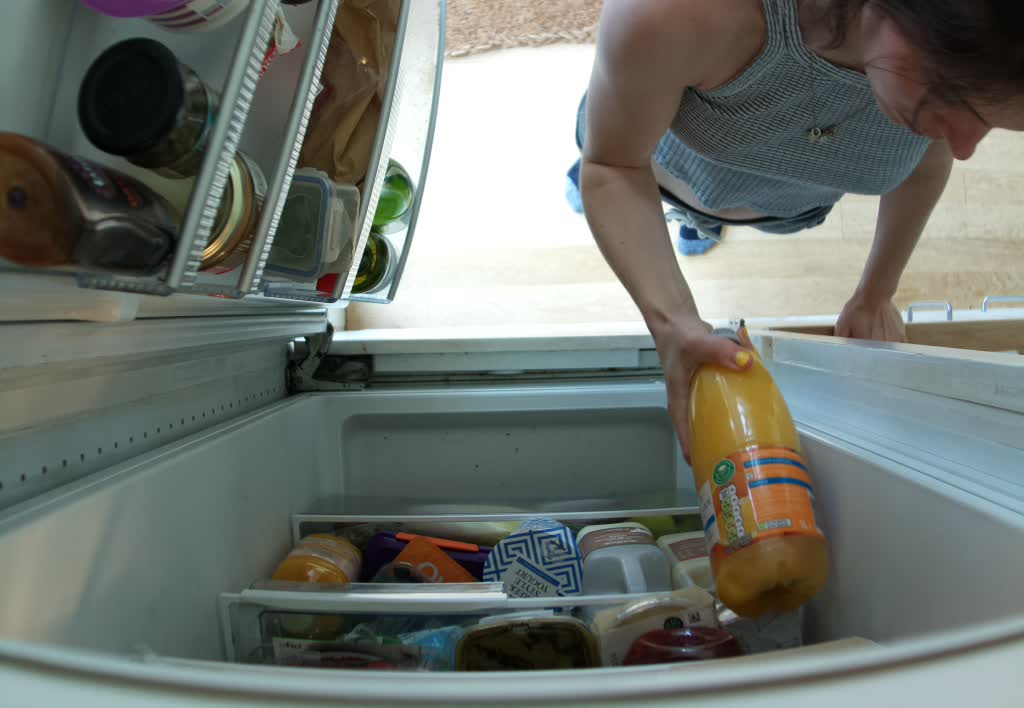juice: (675, 324, 829, 615)
